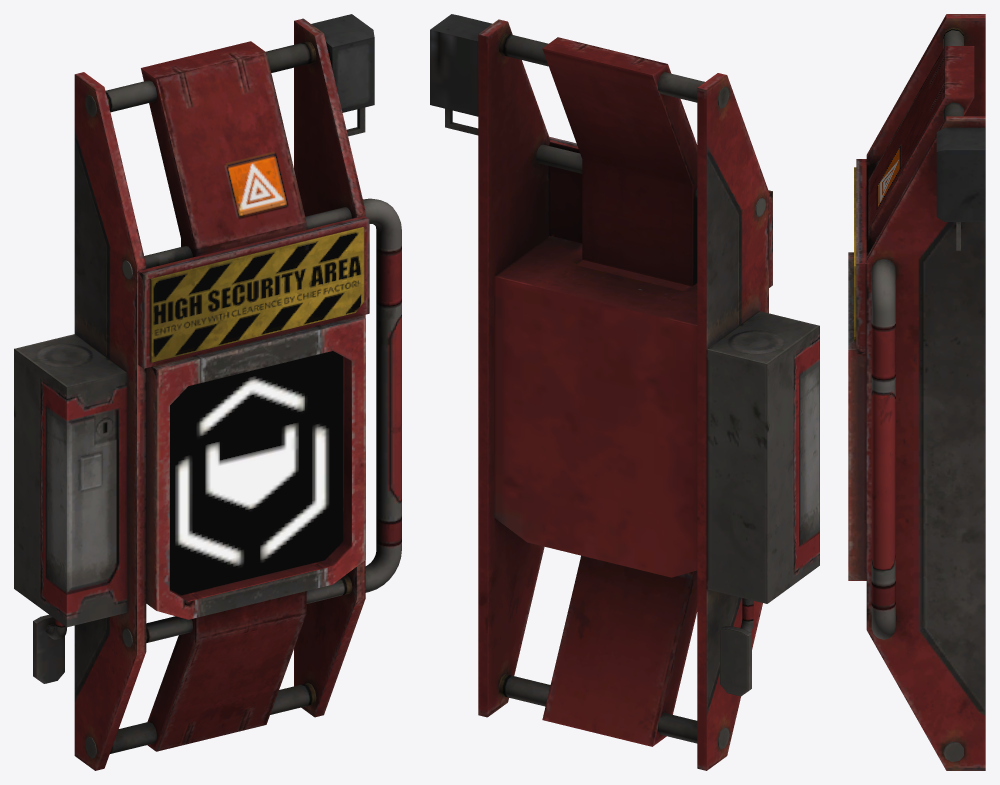
Rendered from highsecurity.DAE.
3 views of the same model, side by side, from view 1: azimuth 30°, elevation 25°; view 2: azimuth 150°, elevation 25°; view 3: azimuth 270°, elevation 25° (orthographic). The views are drawn at different scales.
Visible parts, largest first — view 1: highsecurity; view 2: highsecurity; view 3: highsecurity.
Boxes of the visible parts, <box> form: highsecurity: <box>14,14,401,770</box>; highsecurity: <box>430,14,819,770</box>; highsecurity: <box>848,14,985,770</box>.
Size of the model in its own units: 16.33 by 31.5 by 6.02.
